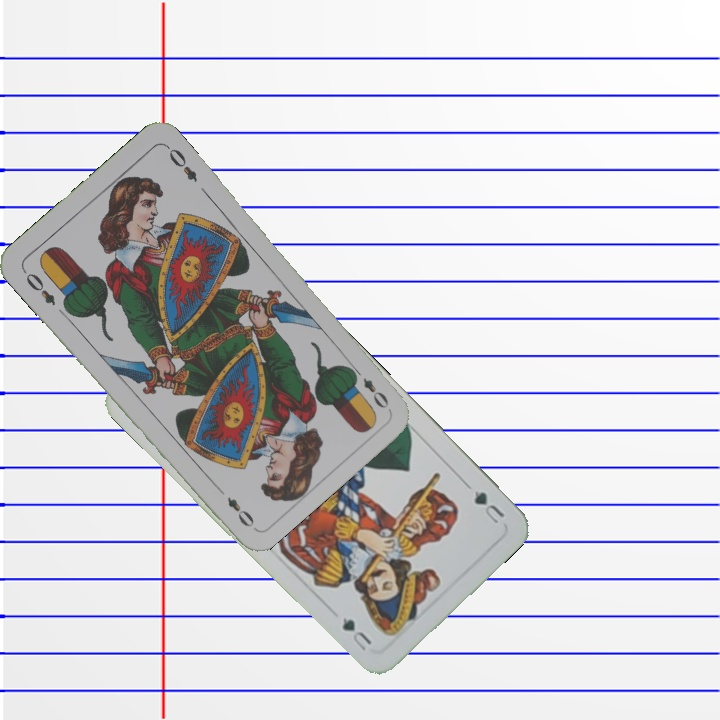EO: (346, 362, 392, 412), (18, 266, 59, 308)
GU: (470, 486, 507, 528)
